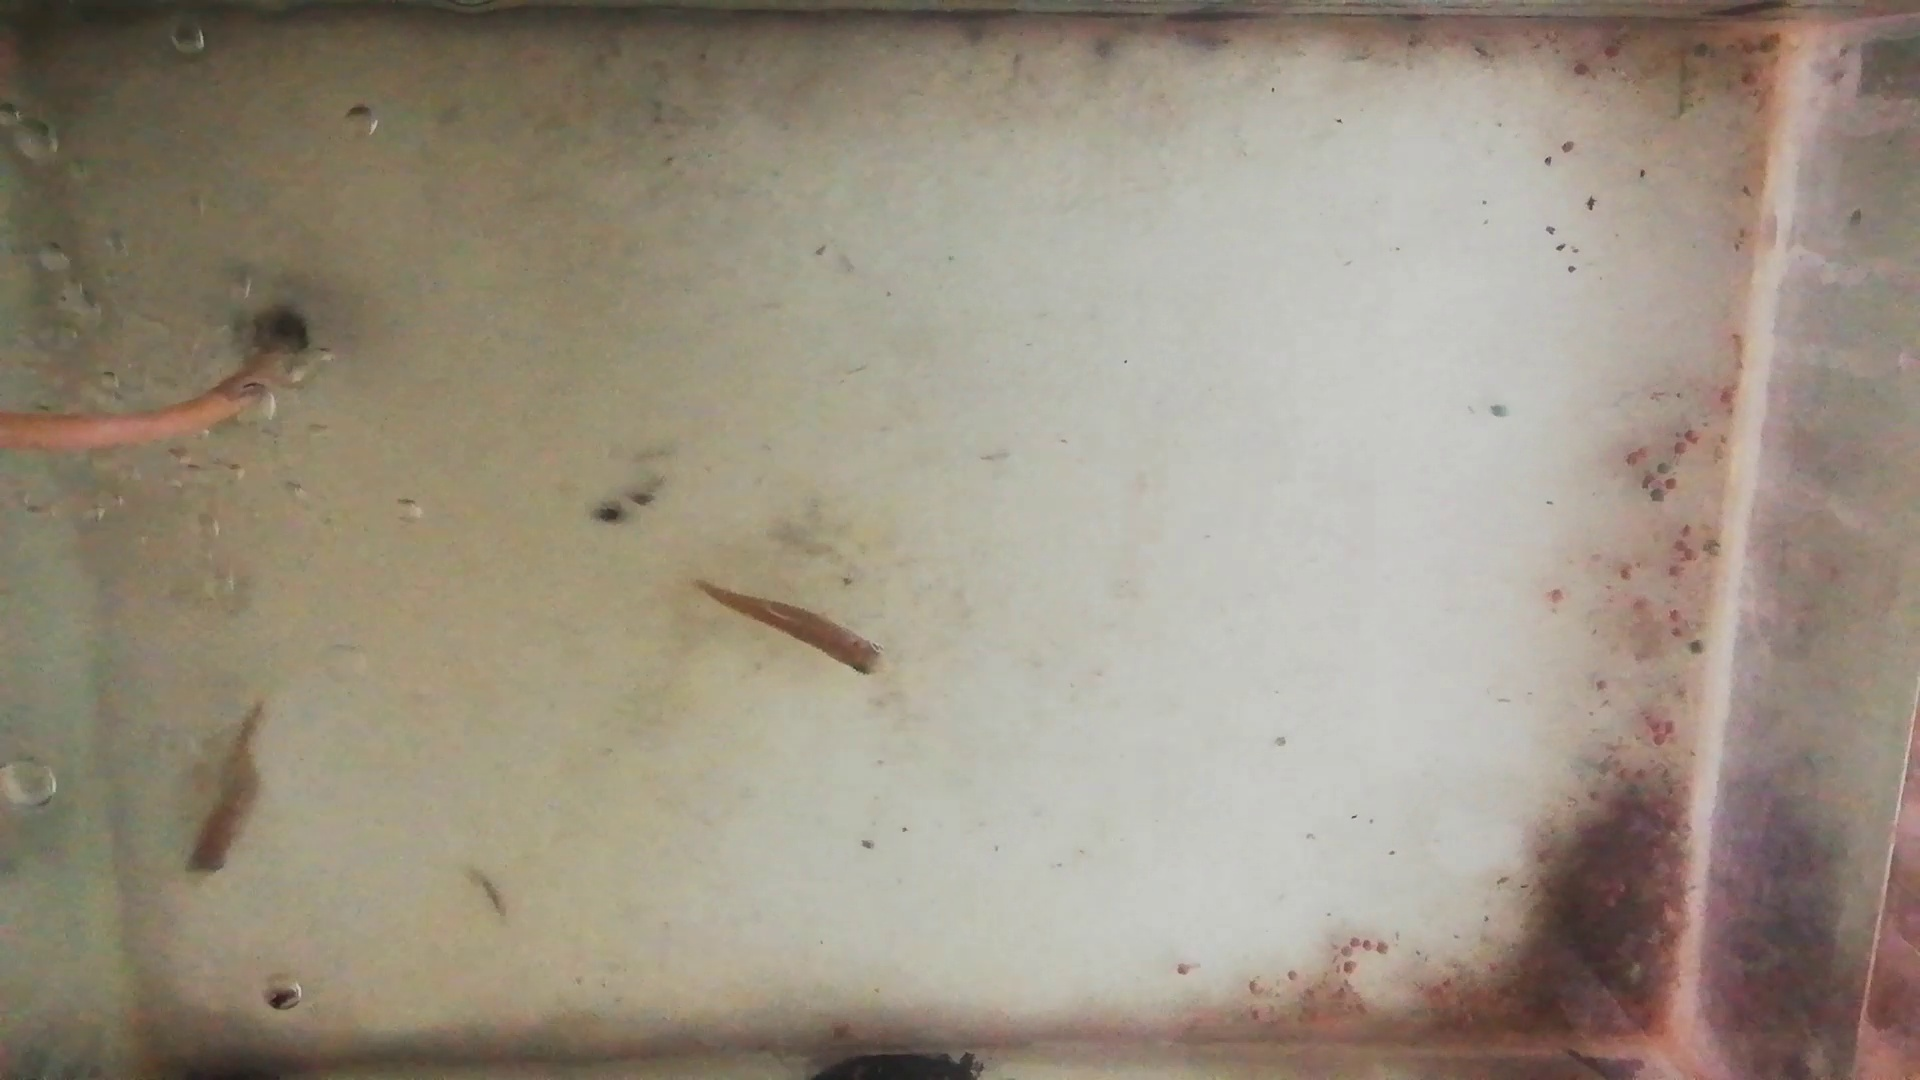fish: (688, 574, 885, 676), (181, 700, 268, 881)
